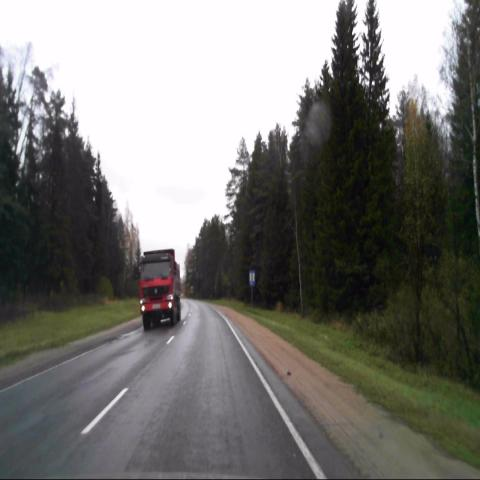7_4: (248, 270, 256, 288)
